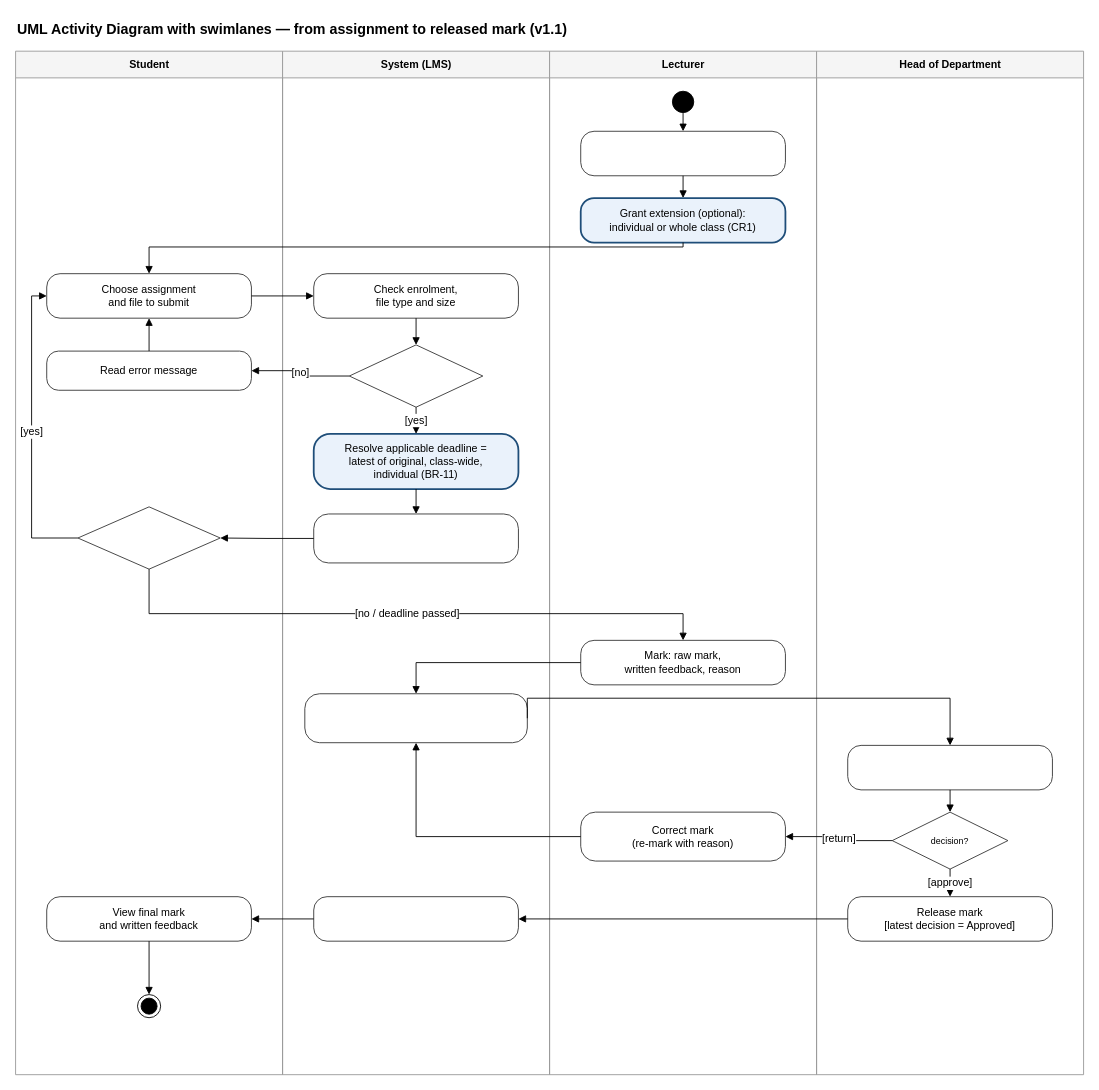
Some shapes in this 1099 by 1090 pixel diagram are drawn without their labels. The centre of each missing label's shape, as x and y in pixels:
"Apply penalty once (Strategy); save mark + audit in ONE transaction" belongs at (415,718).
"Create assignment (deadline UTC, max mark)" belongs at (682,153).
"Record release; mark becomes visible" belongs at (415,918).
"resubmit? [before deadline]" belongs at (148,537).
"Review mark in department moderation queue" belongs at (949,767).
"Save version: server time, deadlineUsed, lateness, status" belongs at (415,538).
"valid?" belongs at (415,375).
